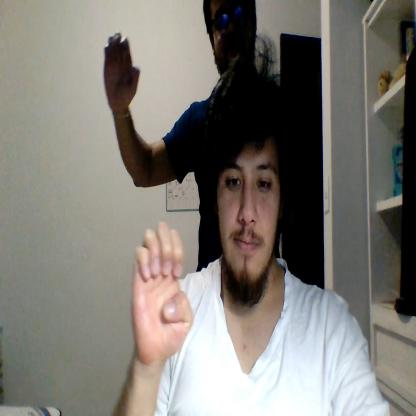E: (132, 220, 194, 361), (103, 32, 141, 107)
